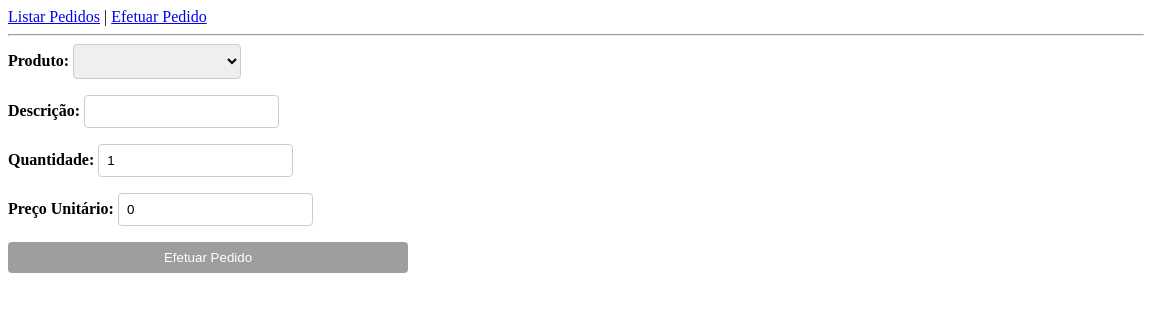
Deve manter o botão desabilitado após form invalido › Deve exibir erro ao solicitar quantidade maior que o estoque disponível
Select "Notebook Lenovo" in the dropdown named "produtoId" at point(157, 62), box [73,44,241,79]
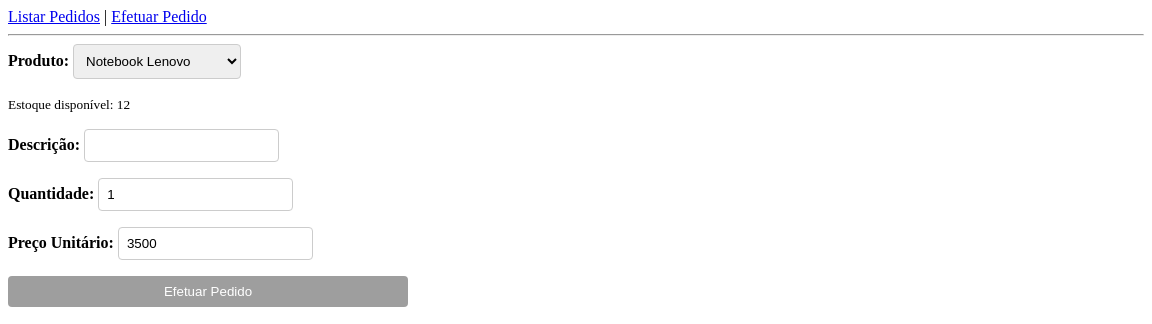
Expected: the element named "precoUnitario" does not hold "0"
Type "Pedido com quantidade inválida" into the field named "descricao" at point(182, 146), box [84,129,279,162]
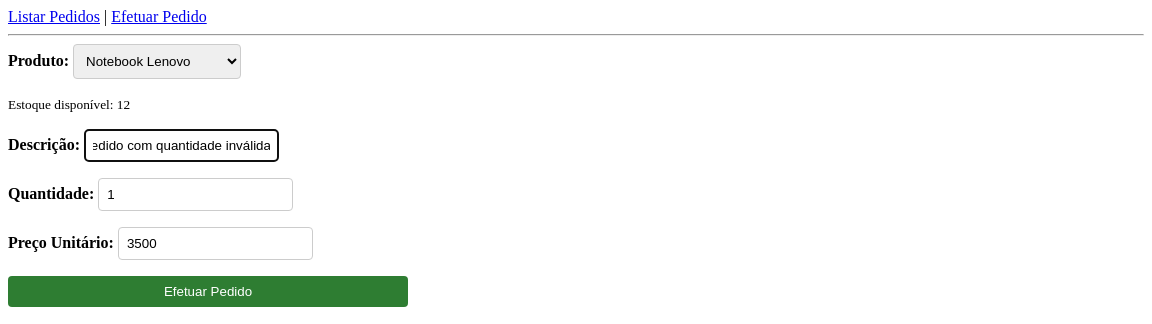
Replace the text in the number field named "quantidade" with "999" at point(196, 195), box [98,178,293,211]
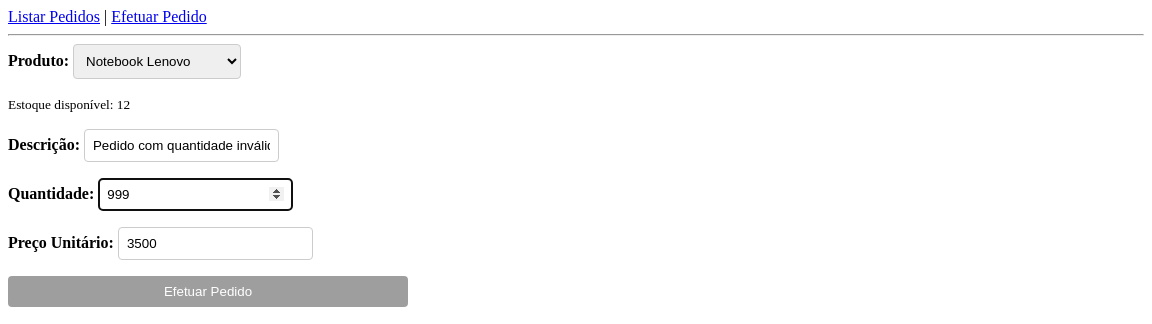
Now the submit button is disabled, box [8,276,408,307]
